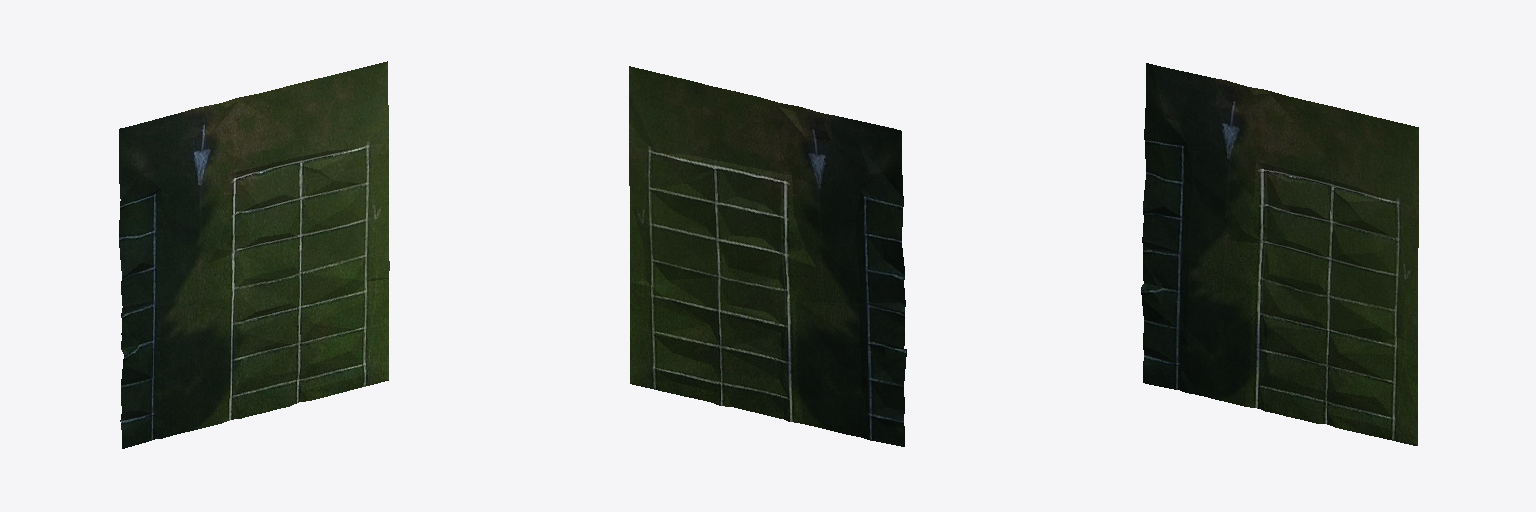
3 views of the same model, side by side, from view 1: azimuth 30°, elevation 25°; view 2: azimuth 150°, elevation 25°; view 3: azimuth 330°, elevation 25° (orthographic).
Parts seen in each view (by area): view 1: obj_0; view 2: obj_0; view 3: obj_0.
Boxes of the visible parts, x1=… form: obj_0: x1=119, y1=61, x2=389, y2=448; obj_0: x1=629, y1=66, x2=906, y2=446; obj_0: x1=1141, y1=63, x2=1418, y2=445.
Bounding box in the file's own units: 20.08 × 22.53 × 1.07.
1 materials, 1 textured.